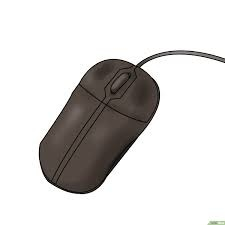mouse: (34, 40, 162, 199)
